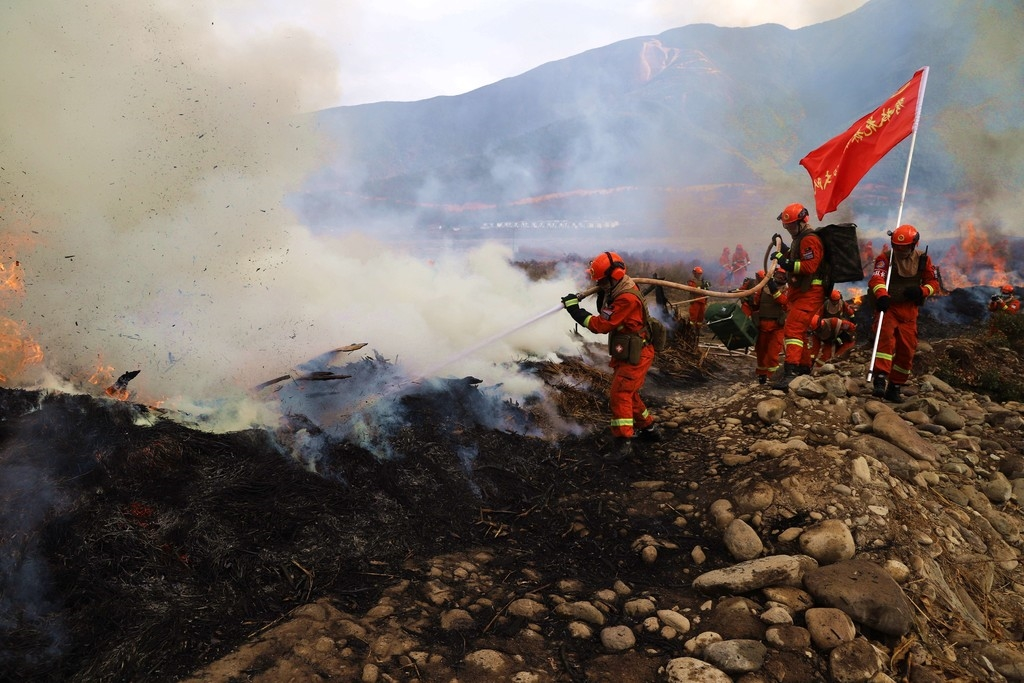fire: (2, 137, 306, 473), (46, 324, 204, 424), (1, 145, 45, 397), (938, 200, 1022, 292), (636, 33, 728, 91), (933, 213, 1016, 259), (315, 177, 388, 209), (479, 196, 582, 217), (944, 259, 1022, 286), (387, 194, 475, 216), (558, 182, 662, 200), (667, 180, 777, 194), (847, 284, 864, 305)
